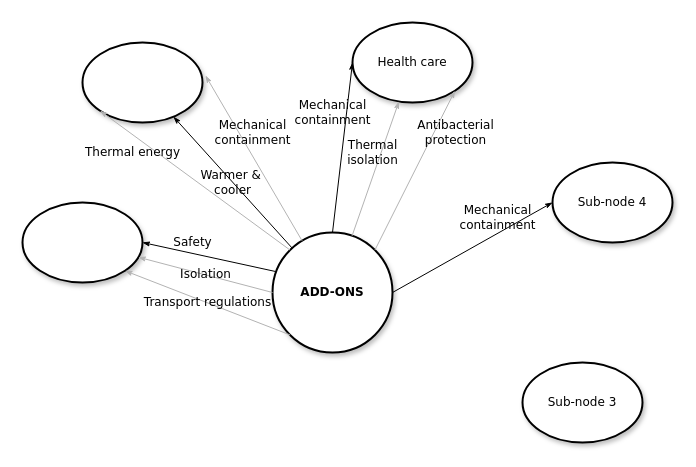
Image size: 696x467. Some labels were removed from this diagram. The centre of each missing label's shape, as x and y in pixels:
"Food producers" goes at [143,83].
"Transporters" goes at [83,243].
